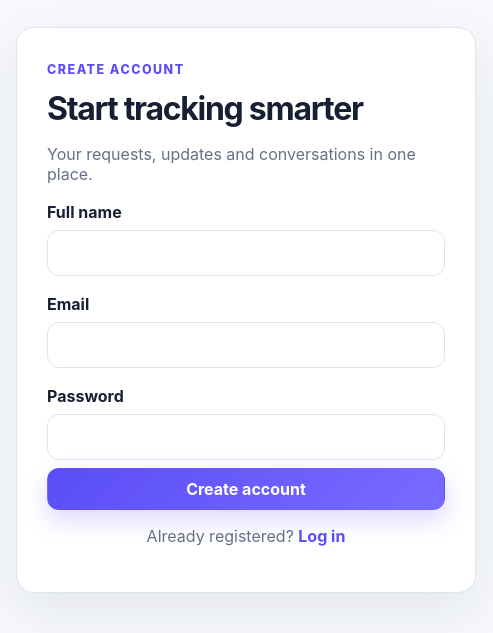
IssueFlow UI › shows validation for short name
This screenshot has width=493, height=633.
In the field labelled "Full name": (246, 252) [47,230,445,276], type "A"
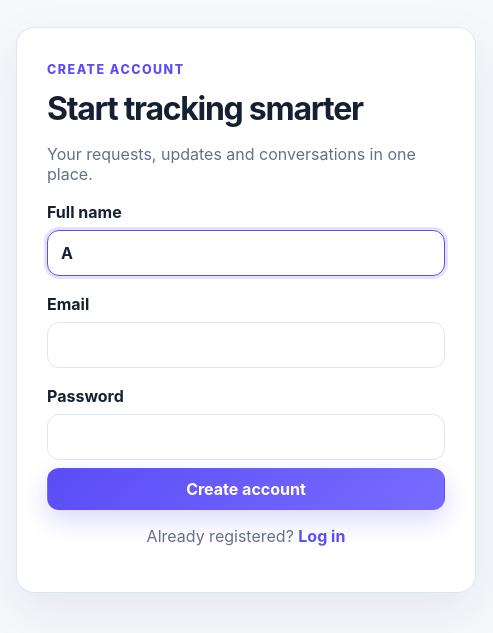
In the field labelled "Email": (246, 344) [47,322,445,368], type "test@example.com"
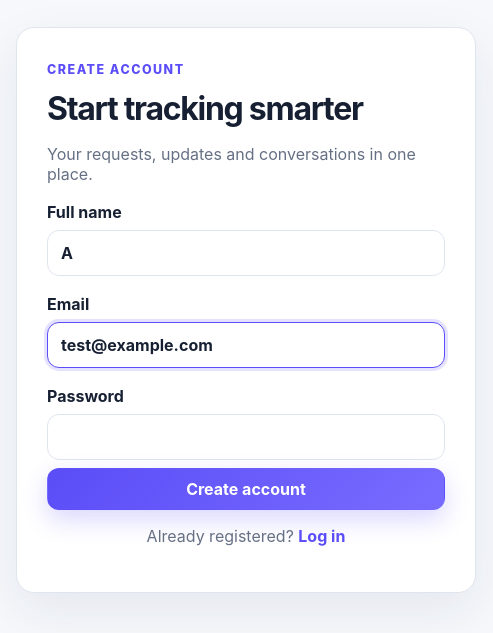
In the password field labelled "Password": (246, 436) [47,414,445,460], type "Password123!"
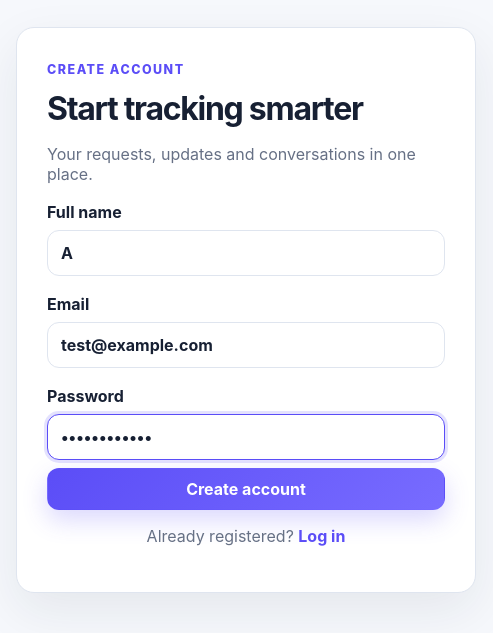
Click the button "Create account": (246, 488) [47,468,445,510]
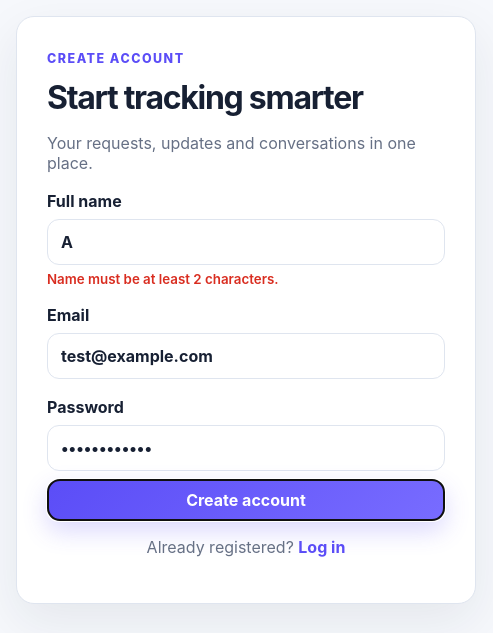
Expected: the text "Name must be at least 2 characters." is shown, [47,270,278,286]
